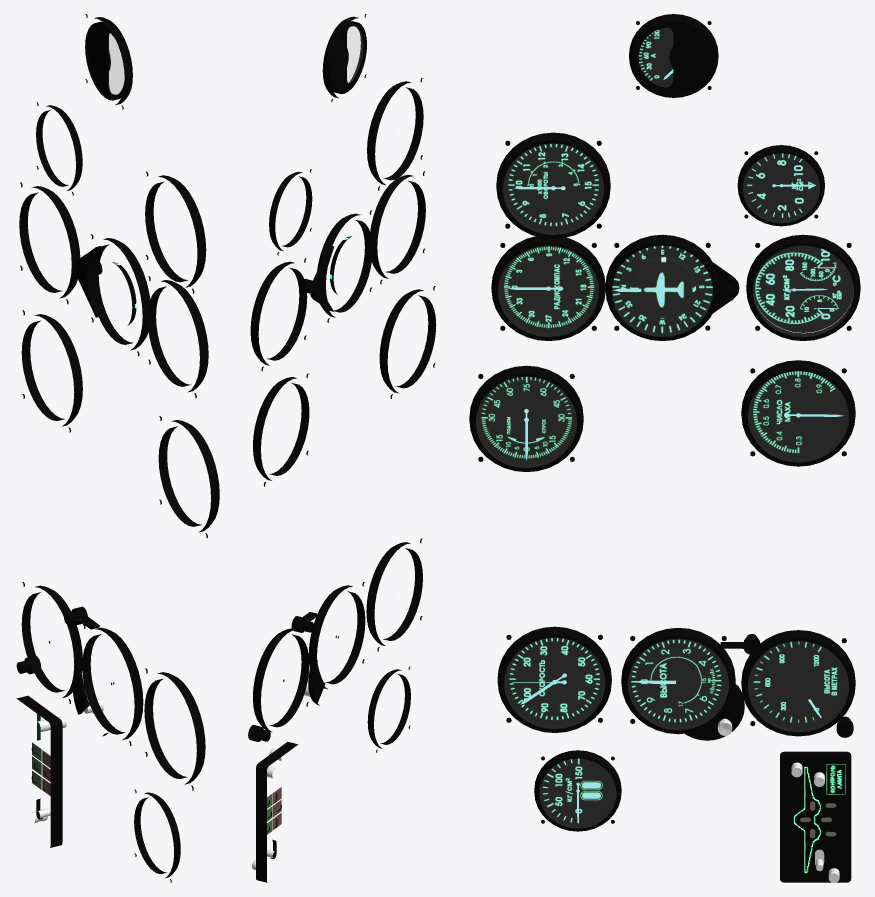
File: MiG-15bis-instruments2.gltf
The picture shows the model from 3 angles, left to right: view 1: azimuth 30°, elevation 25°; view 2: azimuth 150°, elevation 25°; view 3: azimuth 270°, elevation 25°; orthographic projection. The views are drawn at different scales.
Visible parts, largest first — view 1: GI_Box, RC_Bezel, IAS_Bezel, VSI_bezel, Mach_Bezel, TC_Bezel, Alt_Bezel, Mot_Bezel, GC_Bezel, RA_Bezel, VA_Foreplate, MP_Bezel (+6 smaller); view 2: GI_Box, TC_Bezel, Mach_Bezel, VSI_bezel, IAS_Bezel, Mot_Bezel, RA_Bezel, RC_Bezel, Alt_Bezel, GC_Bezel, VA_Foreplate, MP_Bezel (+5 smaller); view 3: GI_Box, TC_Glass, IAS_Glass, Mach_Glass, RC_Glass, RA_Glass, Mot_Glass, GC_Glass, VSI_Glass, ALT_Glass, Mach_Backplate, RC_Backplate (+29 smaller).
Part boxes in pixels (<box>): GI_Box: <box>16,695,62,847</box>; RC_Bezel: <box>147,276,208,398</box>; IAS_Bezel: <box>144,668,205,790</box>; VSI_bezel: <box>158,416,219,538</box>; Mach_Bezel: <box>21,310,82,432</box>; TC_Bezel: <box>145,171,206,293</box>; Alt_Bezel: <box>82,624,143,745</box>; Mot_Bezel: <box>19,182,80,304</box>; GC_Bezel: <box>90,234,150,356</box>; RA_Bezel: <box>21,582,82,703</box>; VA_Foreplate: <box>87,21,124,99</box>; MP_Bezel: <box>36,102,82,195</box>; GI_Box: <box>256,742,298,882</box>; TC_Bezel: <box>367,78,423,190</box>; Mach_Bezel: <box>253,373,309,486</box>; VSI_bezel: <box>379,286,436,398</box>; IAS_Bezel: <box>366,538,422,651</box>; Mot_Bezel: <box>250,258,307,371</box>; RA_Bezel: <box>253,628,309,732</box>; RC_Bezel: <box>370,171,425,284</box>; Alt_Bezel: <box>308,582,365,689</box>; GC_Bezel: <box>317,210,372,322</box>; VA_Foreplate: <box>330,21,365,93</box>; MP_Bezel: <box>269,169,312,255</box>; GI_Box: <box>780,751,851,882</box>; TC_Glass: <box>503,144,603,234</box>; IAS_Glass: <box>504,638,604,728</box>; Mach_Glass: <box>748,371,848,462</box>; RC_Glass: <box>498,246,598,336</box>; RA_Glass: <box>748,641,848,731</box>; Mot_Glass: <box>753,246,853,336</box>; GC_Glass: <box>612,246,712,336</box>; VSI_Glass: <box>476,377,576,467</box>; ALT_Glass: <box>628,639,728,729</box>; Mach_Backplate: <box>748,371,848,458</box>; RC_Backplate: <box>498,245,598,333</box>.
Size of the model in its own units: 0.0223 by 0.7763 by 0.3193.
Materials: 5 (2 with a texture image).
